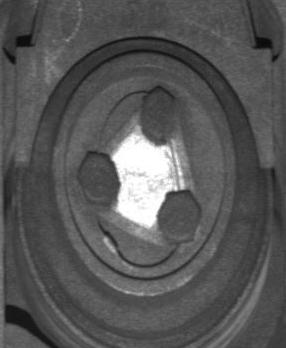Bolt: (76, 150, 121, 210), (157, 189, 203, 246), (139, 85, 177, 146)
